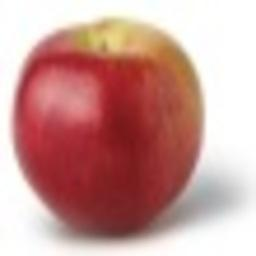apple: (9, 18, 204, 233)
